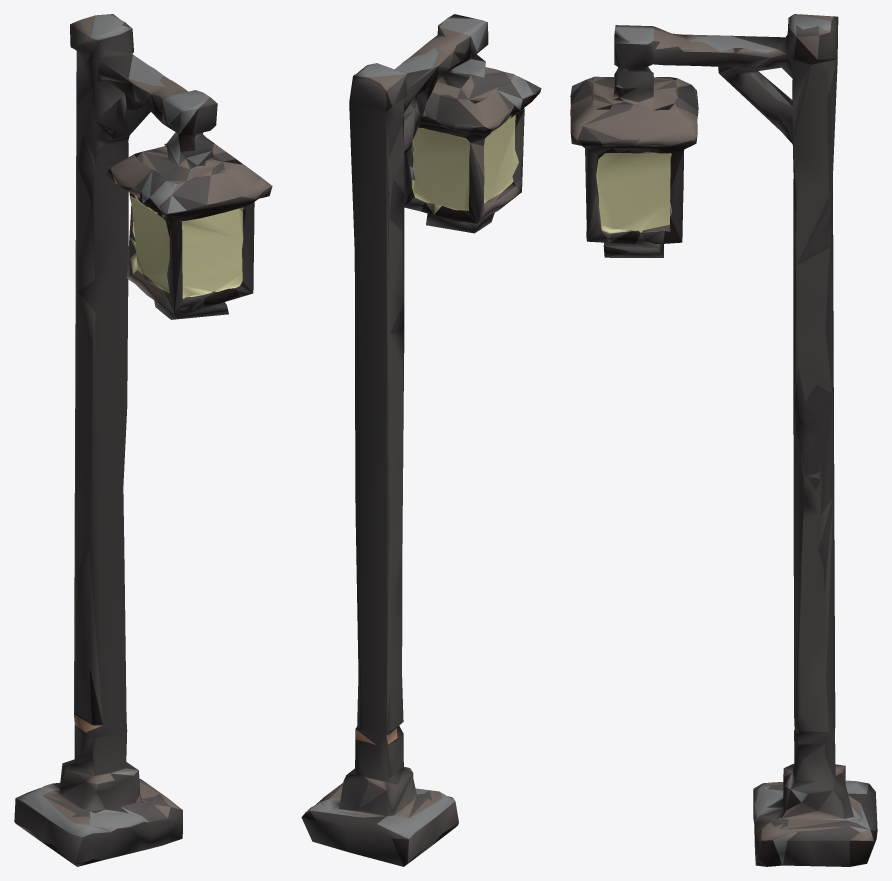
The model's file is lamp-B7E9oMOS.glb.
The picture shows the model from 3 angles, left to right: view 1: azimuth 30°, elevation 25°; view 2: azimuth 150°, elevation 25°; view 3: azimuth 270°, elevation 25°; orthographic projection. The views are drawn at different scales.
Visible parts, largest first — view 1: tripo_node_9f007f4a-f60a-407b-9b2c-11ff8cd6f380; view 2: tripo_node_9f007f4a-f60a-407b-9b2c-11ff8cd6f380; view 3: tripo_node_9f007f4a-f60a-407b-9b2c-11ff8cd6f380.
Boxes of the visible parts, box(x1,y1,x2,y2) form: tripo_node_9f007f4a-f60a-407b-9b2c-11ff8cd6f380: box(14, 14, 272, 866); tripo_node_9f007f4a-f60a-407b-9b2c-11ff8cd6f380: box(301, 14, 541, 866); tripo_node_9f007f4a-f60a-407b-9b2c-11ff8cd6f380: box(570, 14, 877, 866).
Size of the model in its own units: 0.1443 by 0.9791 by 0.3315.
